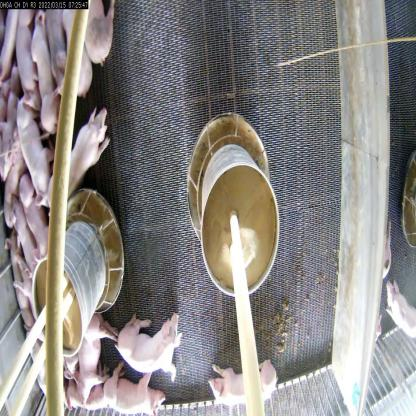Pig: (56, 105, 114, 197), (120, 319, 183, 381), (207, 356, 274, 412), (19, 95, 50, 207), (11, 178, 51, 256), (33, 4, 57, 129), (80, 303, 109, 398), (106, 378, 171, 415), (81, 0, 115, 58), (64, 5, 87, 85), (9, 202, 35, 272), (20, 4, 37, 102)
